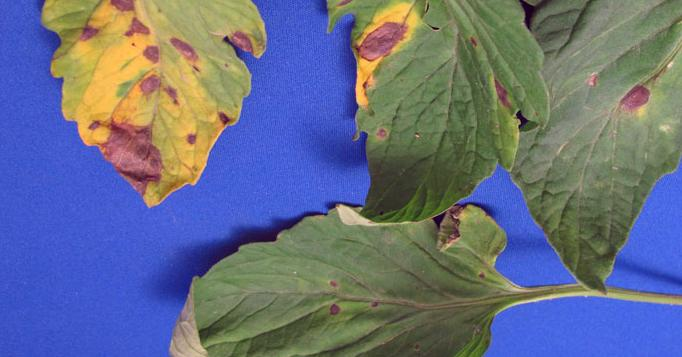Tomato Early blight leaf: (118, 192, 542, 357), (278, 0, 539, 227), (29, 0, 259, 218), (513, 0, 682, 296)
